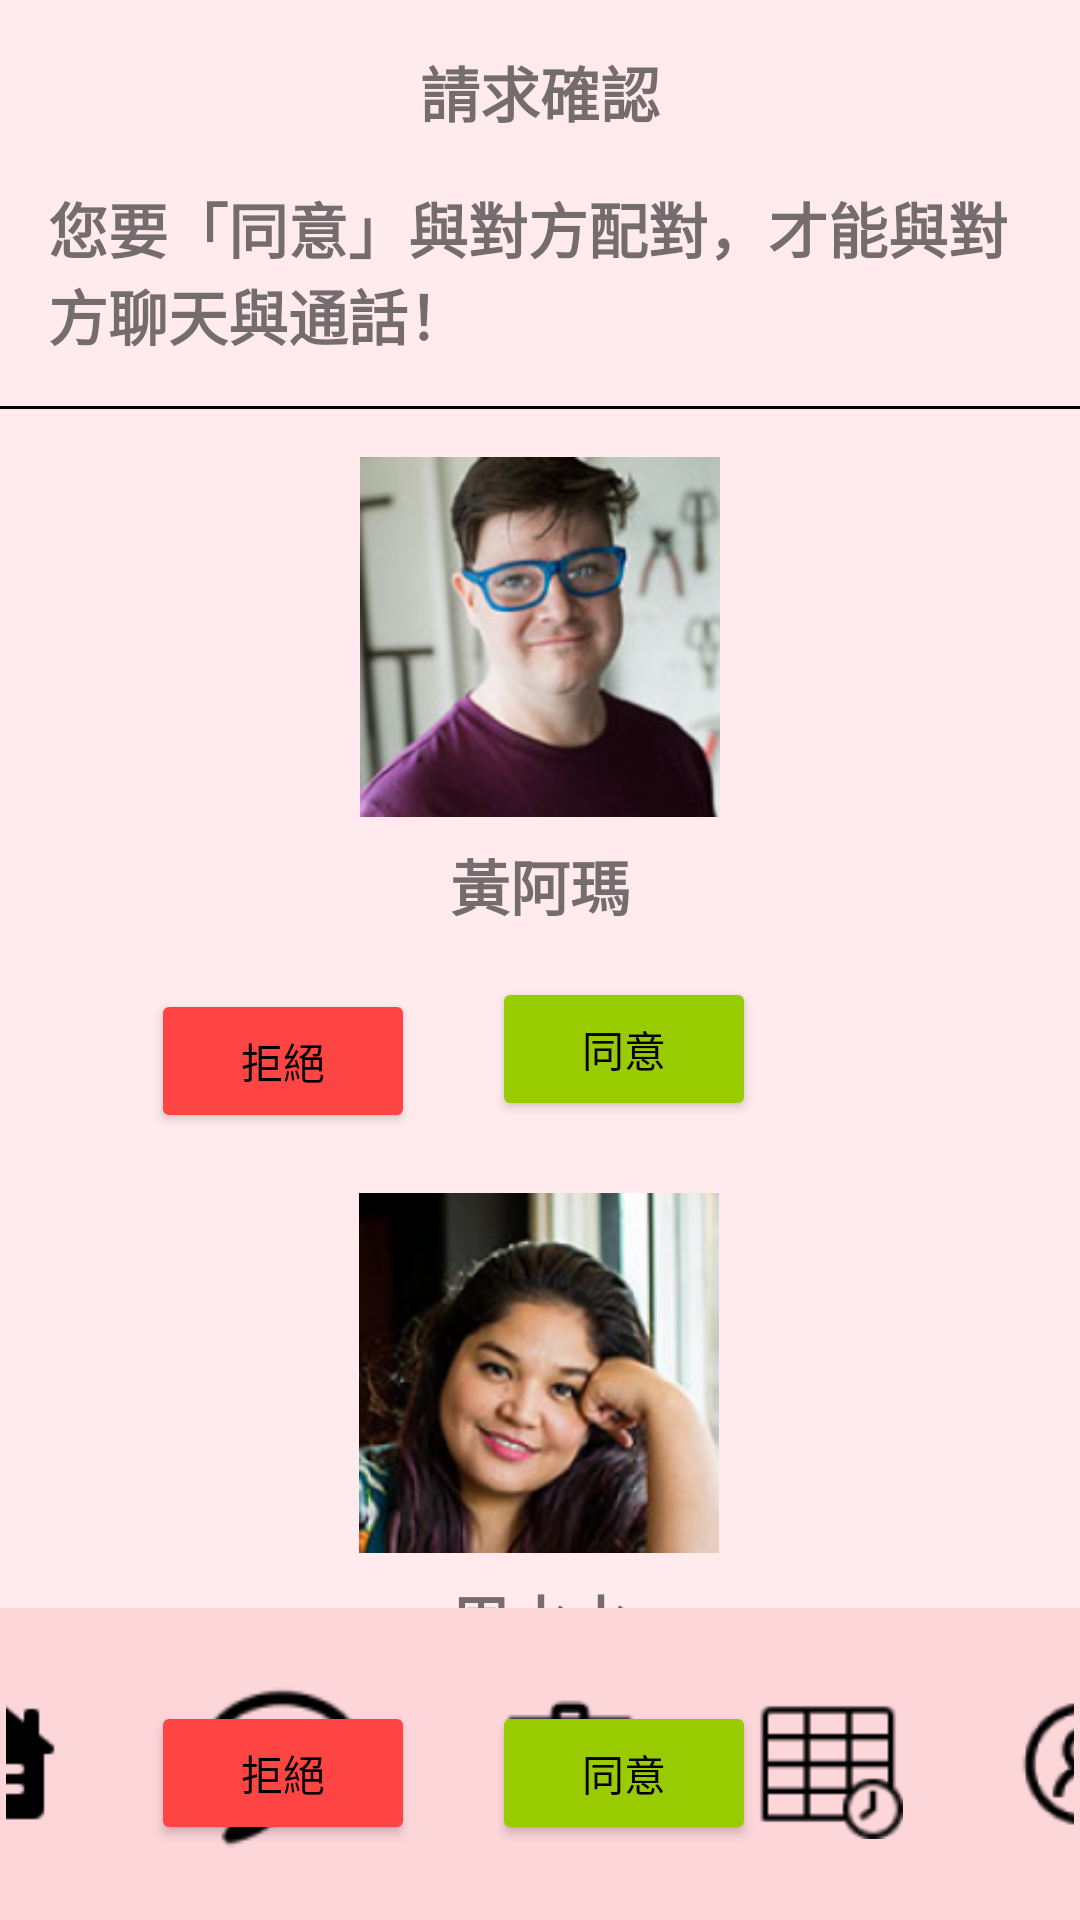

Icon click points for this 1080 x 1920 phone screenshot, format (x=x, y=y):
timetable: (x=831, y=1772)
